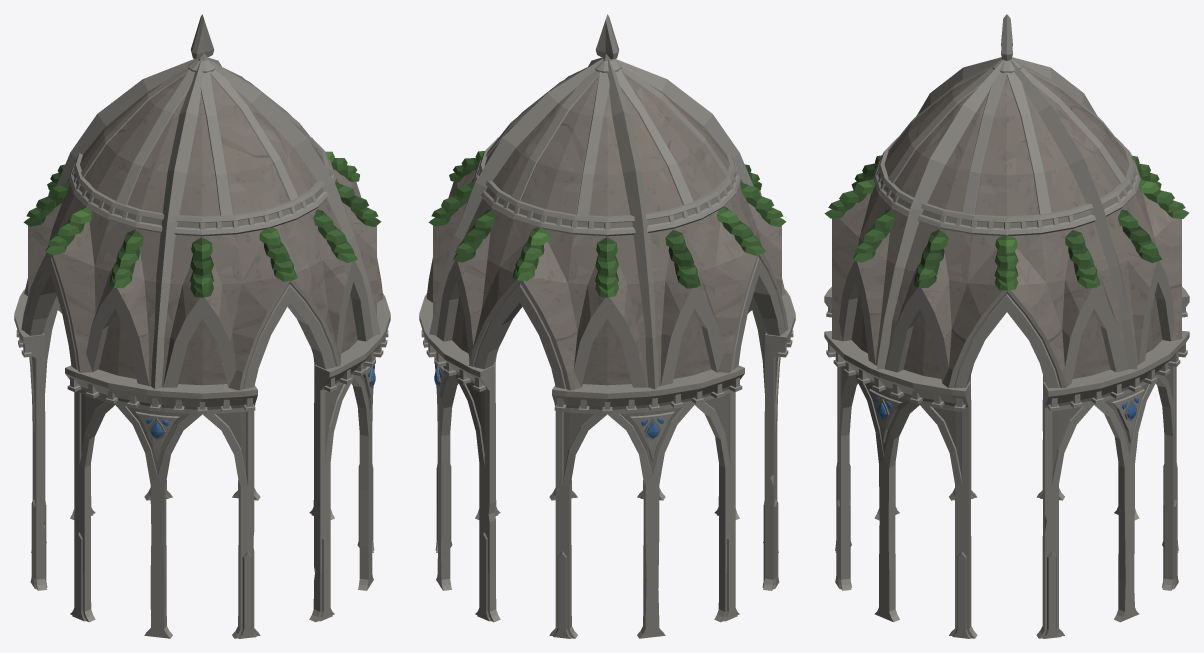
The model's file is el_bld_forge.gltf.
3 renders of one model, left to right at view 1: azimuth 30°, elevation 25°; view 2: azimuth 150°, elevation 25°; view 3: azimuth 270°, elevation 25°, orthographic.
Parts seen in each view (by area): view 1: el_bld_forge; view 2: el_bld_forge; view 3: el_bld_forge.
Part boxes in pixels (x1=…): el_bld_forge: x1=14, y1=14, x2=390, y2=638; el_bld_forge: x1=419, y1=14, x2=795, y2=638; el_bld_forge: x1=824, y1=14, x2=1189, y2=638.
Size of the model in its own units: 5.95 by 9.92 by 5.95.
2 materials, 2 textured.
